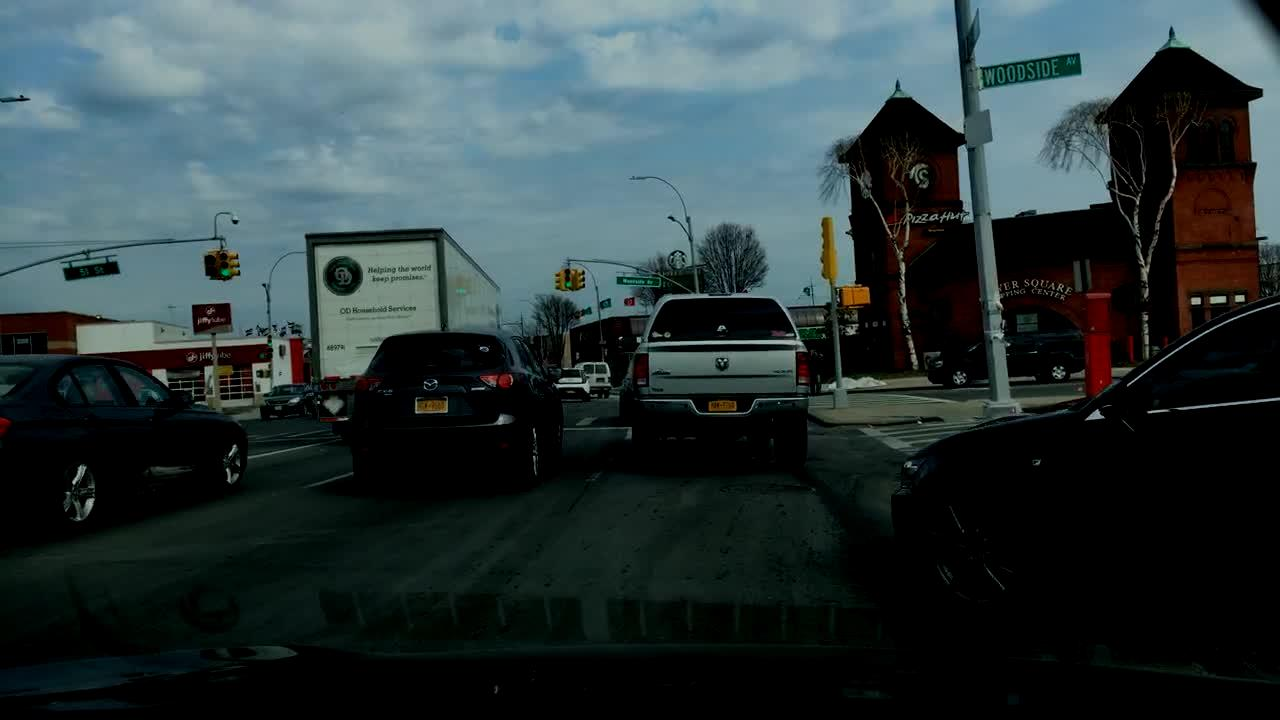Mazda: (421, 375, 440, 393)
ram: (714, 351, 731, 376)
